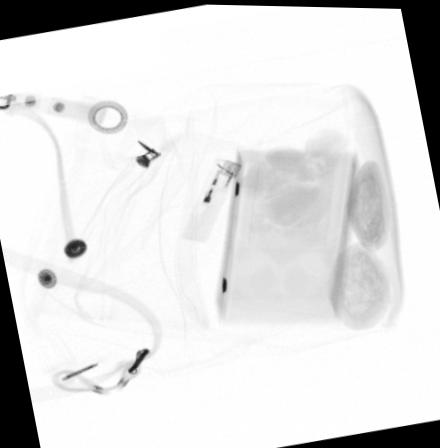Lighter: (180, 155, 240, 242)
